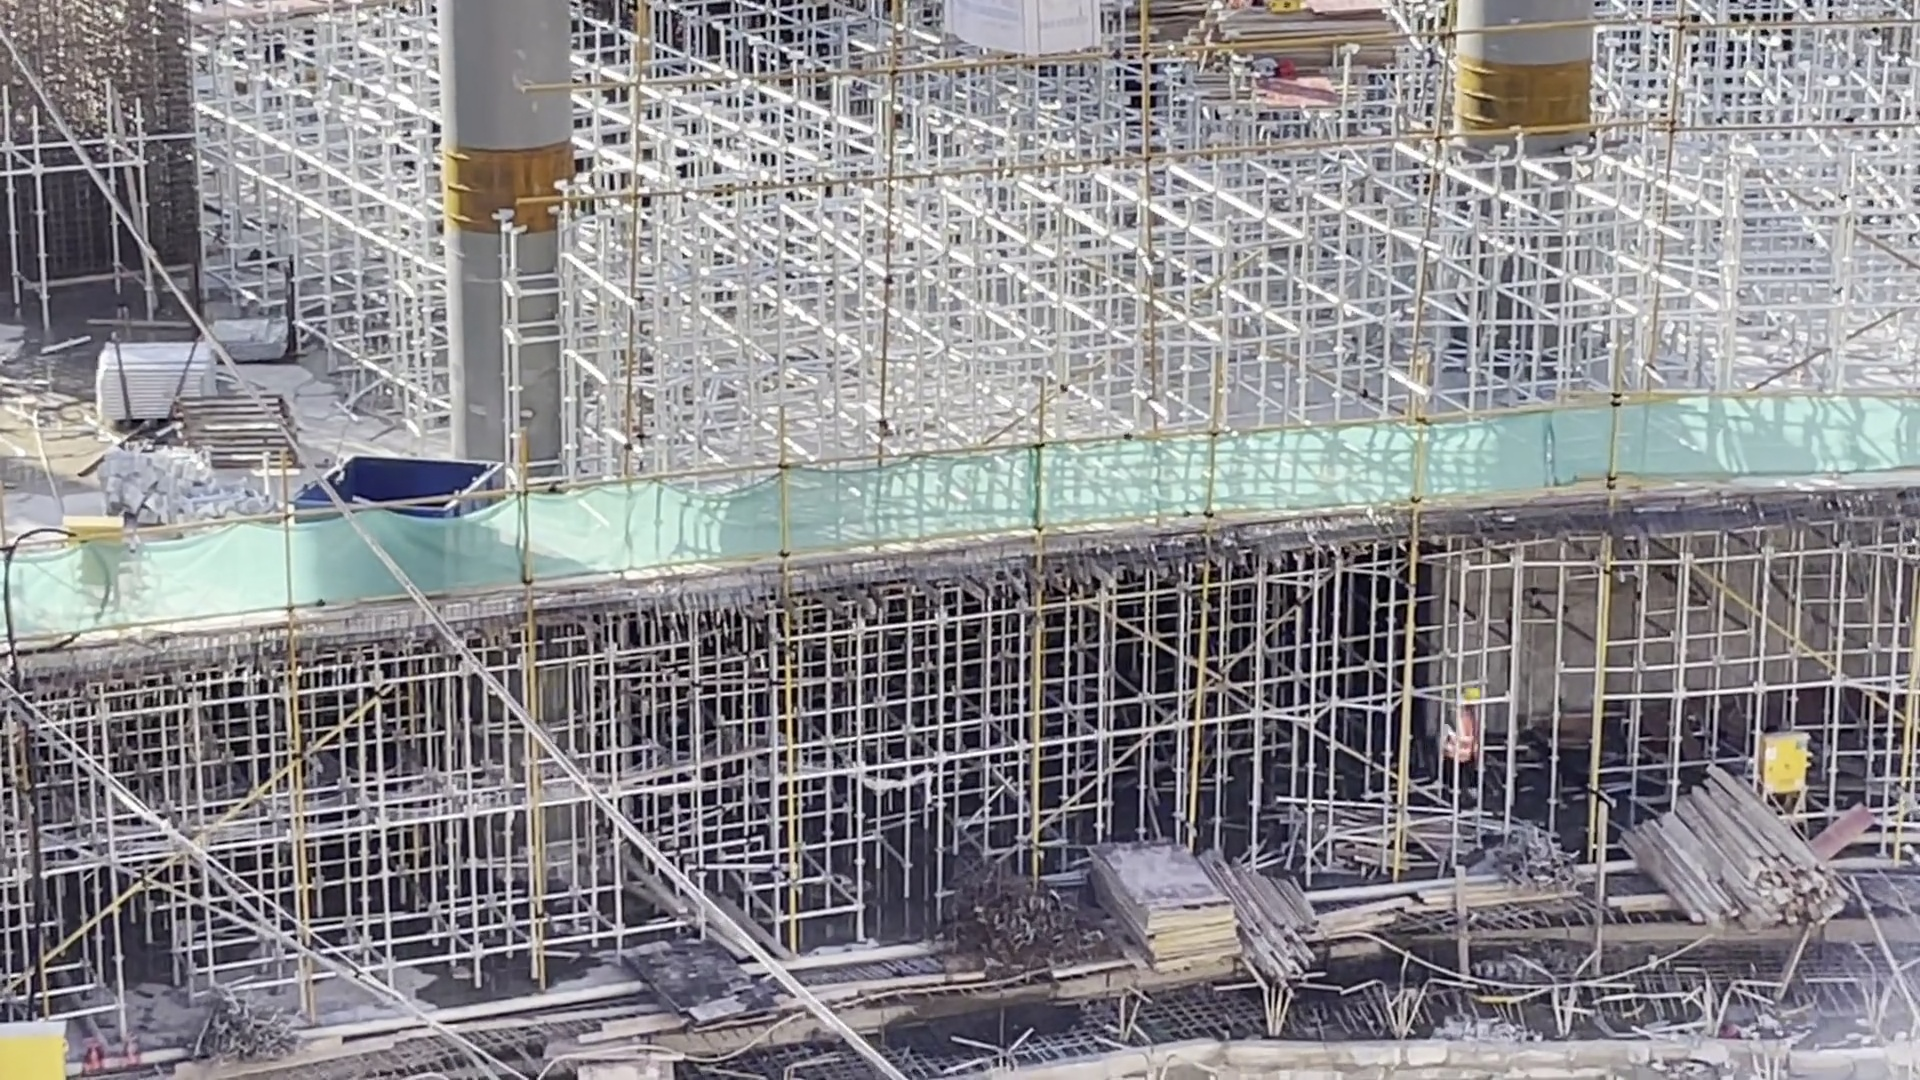board: (1089, 835, 1249, 978), (1199, 3, 1404, 65)
ebox: (1758, 728, 1817, 800), (55, 512, 129, 537)
hopper: (319, 448, 513, 487)
scaffold: (95, 342, 228, 409)
wood: (1614, 760, 1854, 930), (1251, 864, 1327, 990)
